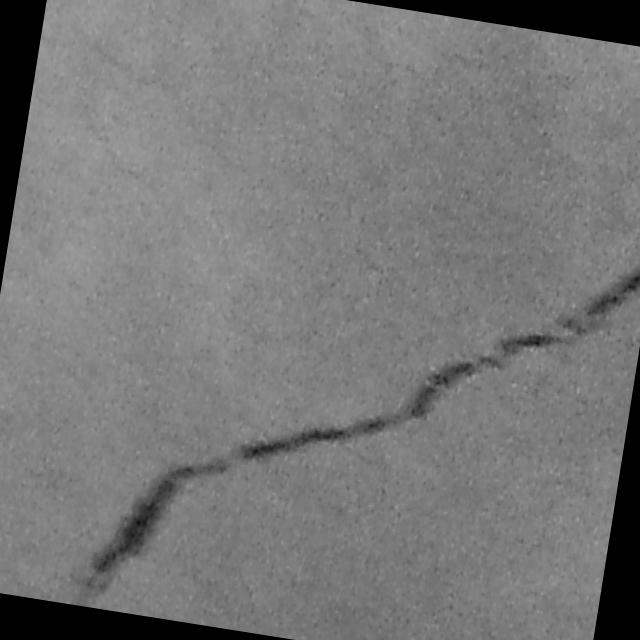crack: (62, 182, 640, 640)
